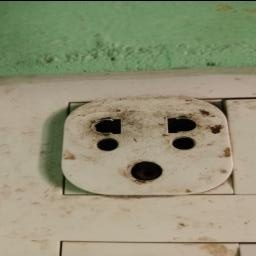outlet: (51, 89, 241, 200)
